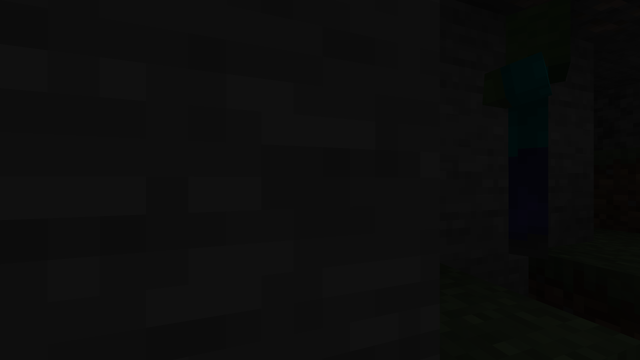zombies: (504, 2, 592, 263)
